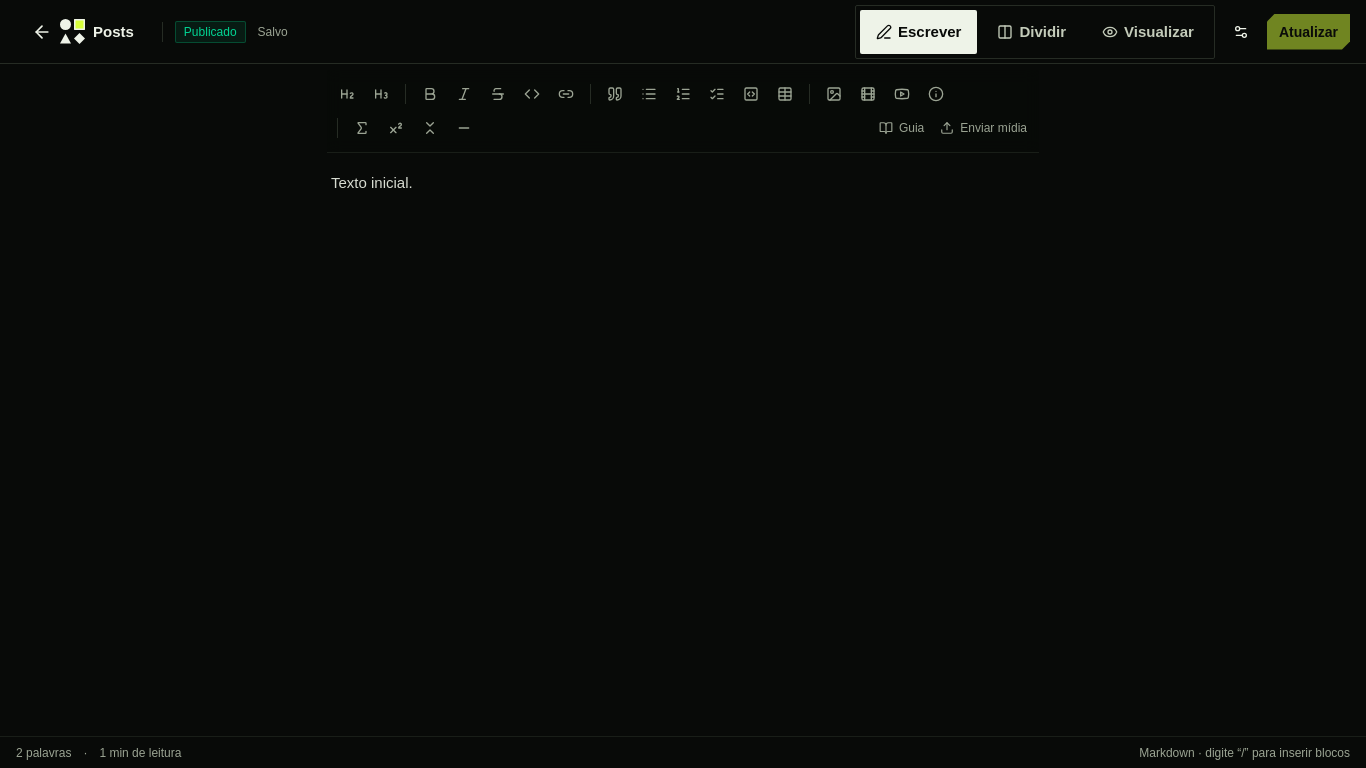
Test: botões conforme o papel › post publicado: "Atualizar" só libera depois de alguma mudança
(page scrolled)
Expected: the button "Atualizar" is disabled, [1267,14,1350,50]
Replace the text in the text box named "Conteúdo do post em Markdown" with "Correção." at (683, 400), box [331,169,1035,630]
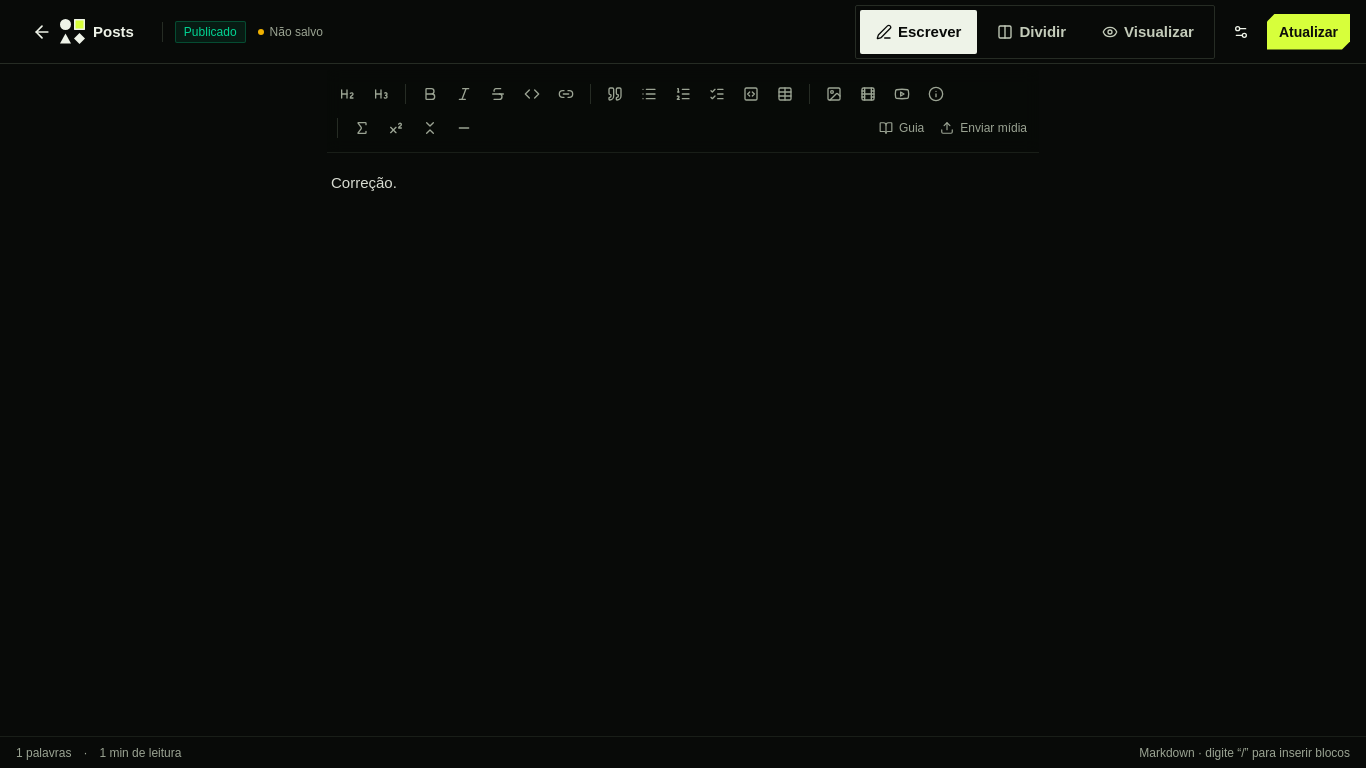
Result: the button "Atualizar" is enabled
Click the button "Atualizar" at (1308, 32), box [1267,14,1350,50]
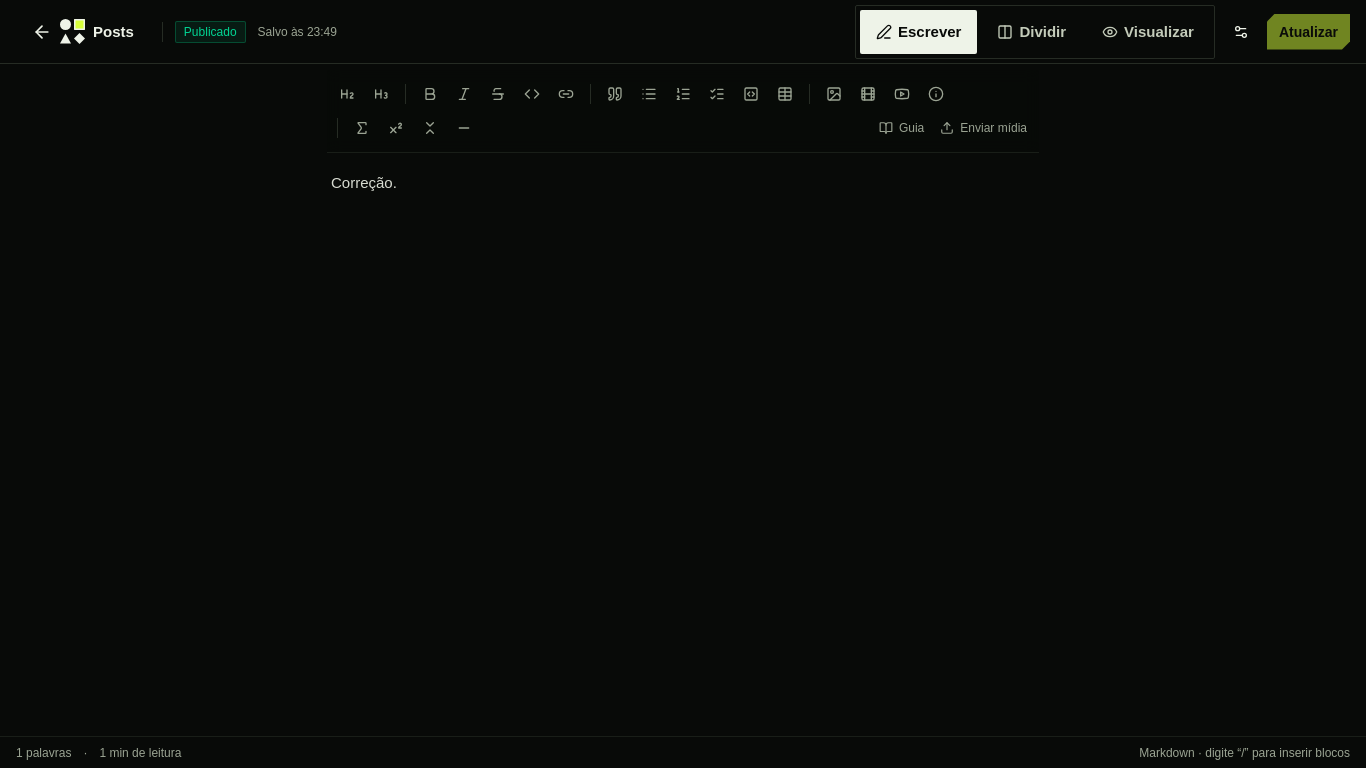
Result: the button "Atualizar" is disabled at [1267,14,1350,50]
